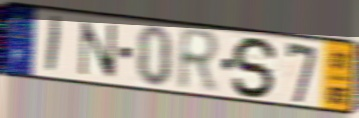0: (131, 23, 175, 89)
7: (286, 39, 318, 105)
I: (43, 14, 64, 76)
N: (78, 19, 118, 82)
R: (176, 26, 223, 96)
S: (231, 35, 282, 100)
